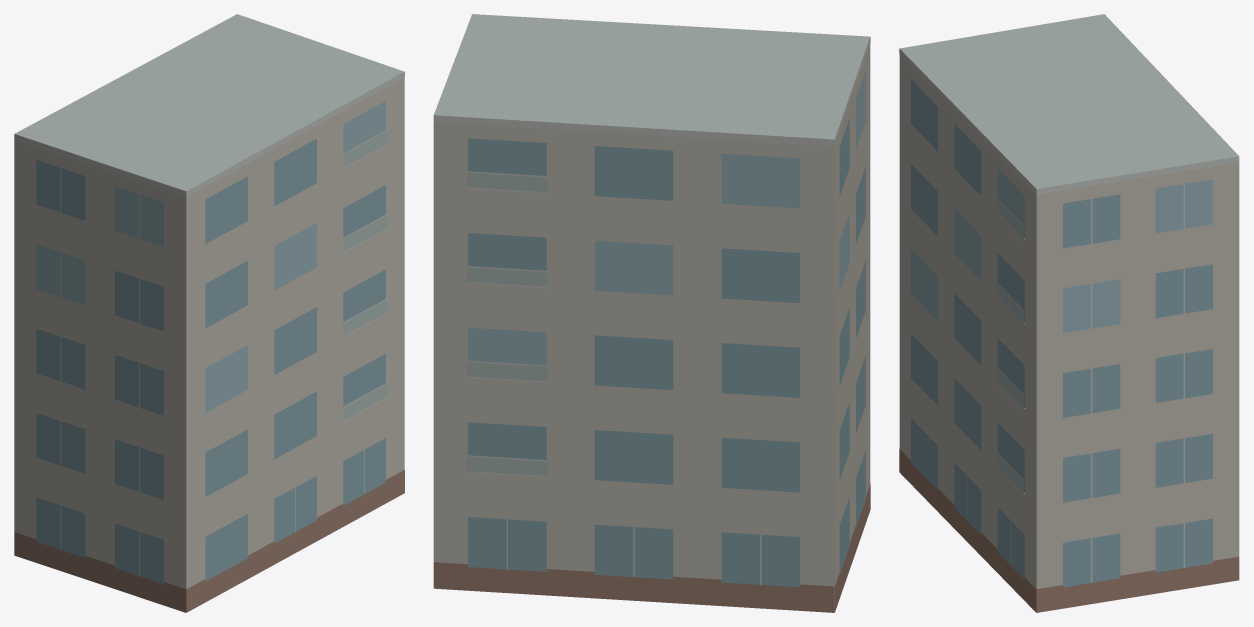
Rendered from survey-upis-32851351.glb.
The picture shows the model from 3 angles, left to right: view 1: azimuth 30°, elevation 25°; view 2: azimuth 150°, elevation 25°; view 3: azimuth 270°, elevation 25°; orthographic projection. The views are drawn at different scales.
Parts seen in each view (by area): view 1: survey-upis-32851351.tmp; view 2: survey-upis-32851351.tmp; view 3: survey-upis-32851351.tmp.
Part boxes in pixels (x1,y1,x2,y2): survey-upis-32851351.tmp: (14,14,404,612); survey-upis-32851351.tmp: (433,14,870,612); survey-upis-32851351.tmp: (899,14,1239,612).
Size of the model in its own units: 15.42 by 17.4 by 12.66.
